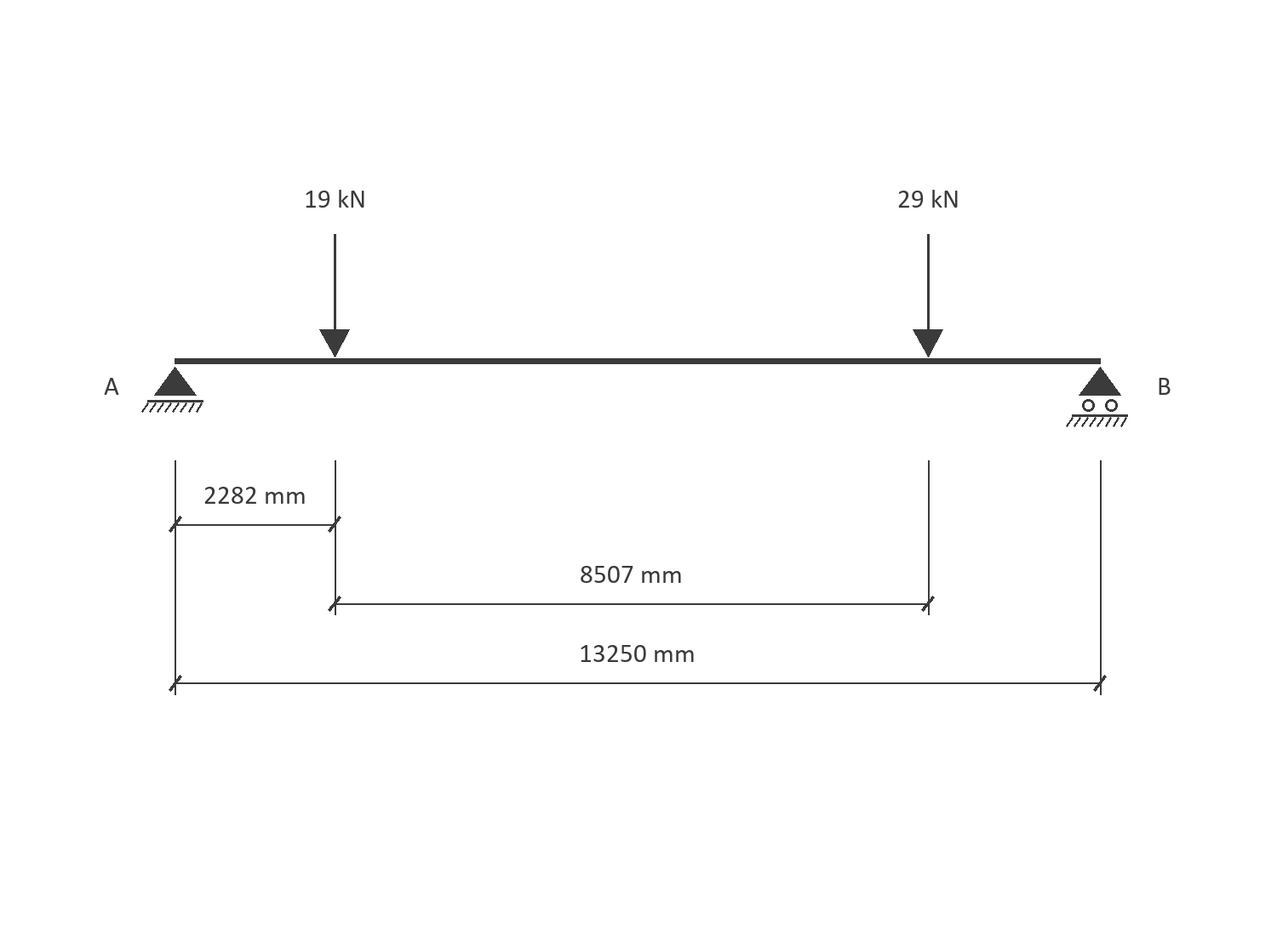pin_support: (141, 367, 203, 413)
point_load: (319, 234, 350, 357), (913, 234, 943, 357)
roller_support: (1066, 367, 1128, 427)
